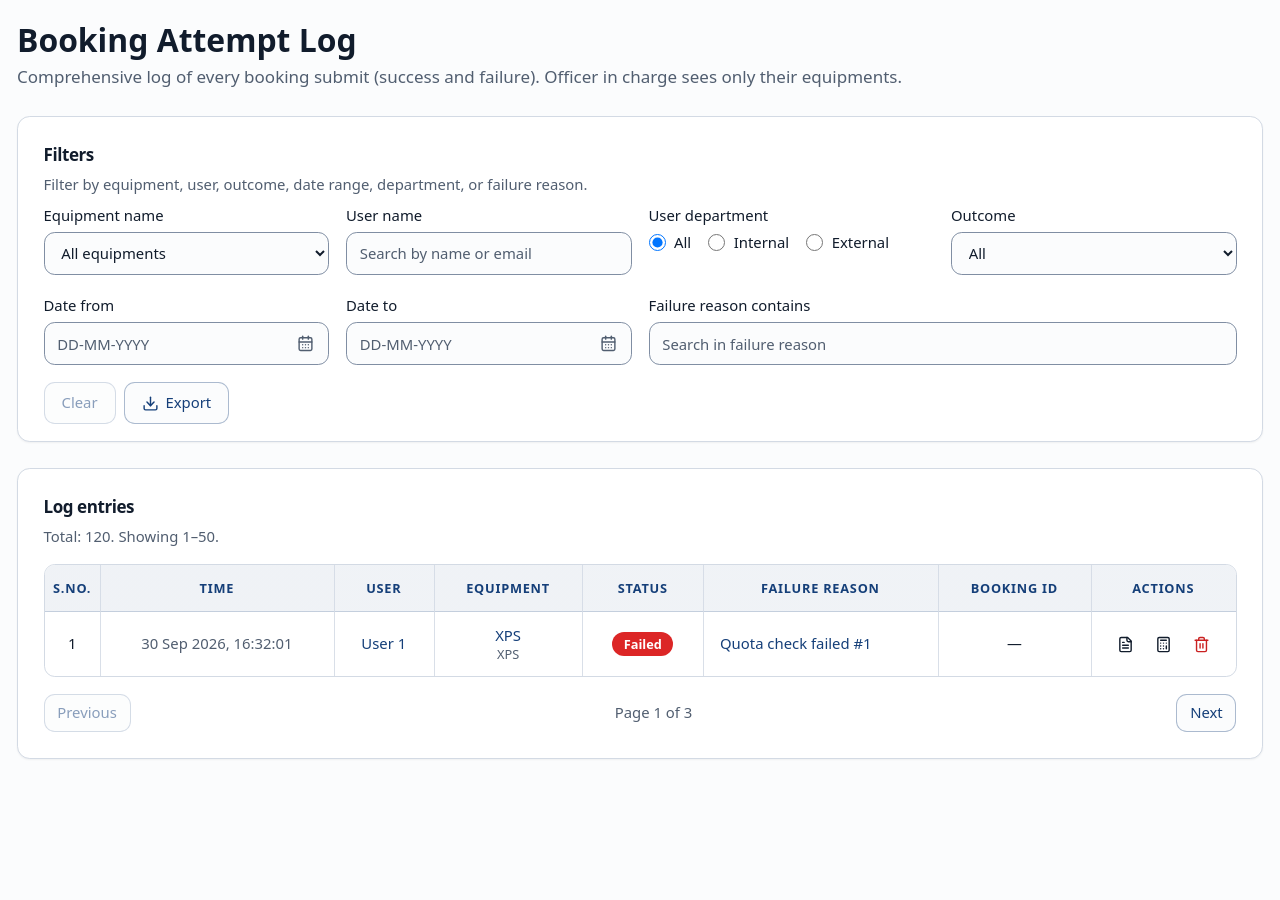
Test case: Booking Attempt Log live filters › keeps rows on screen while refetching and never shows an older response over a newer one
expect the button "Quota check failed #1" is shown: met, box x1=720 y1=633 x2=921 y2=655
Select "Success" in the dropdown named "Outcome": x=1094, y=253 x1=951 y1=232 x2=1236 y2=275
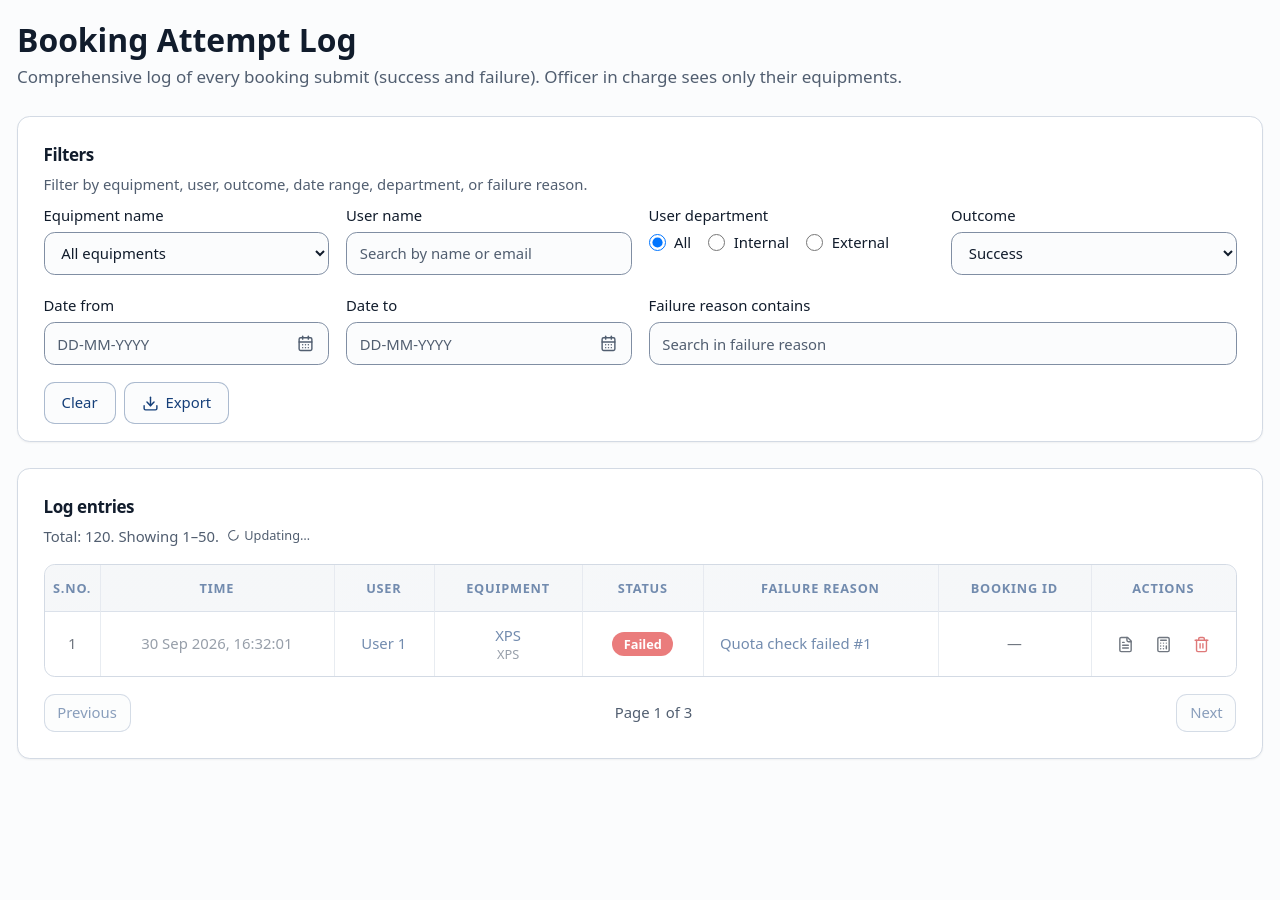
expect the button "Quota check failed #1" is shown: met, box x1=720 y1=633 x2=921 y2=655
expect the text "Updating…" is shown: met, box x1=227 y1=527 x2=310 y2=544
Select "Failed" in the dropdown named "Outcome": x=1094, y=253 x1=951 y1=232 x2=1236 y2=275
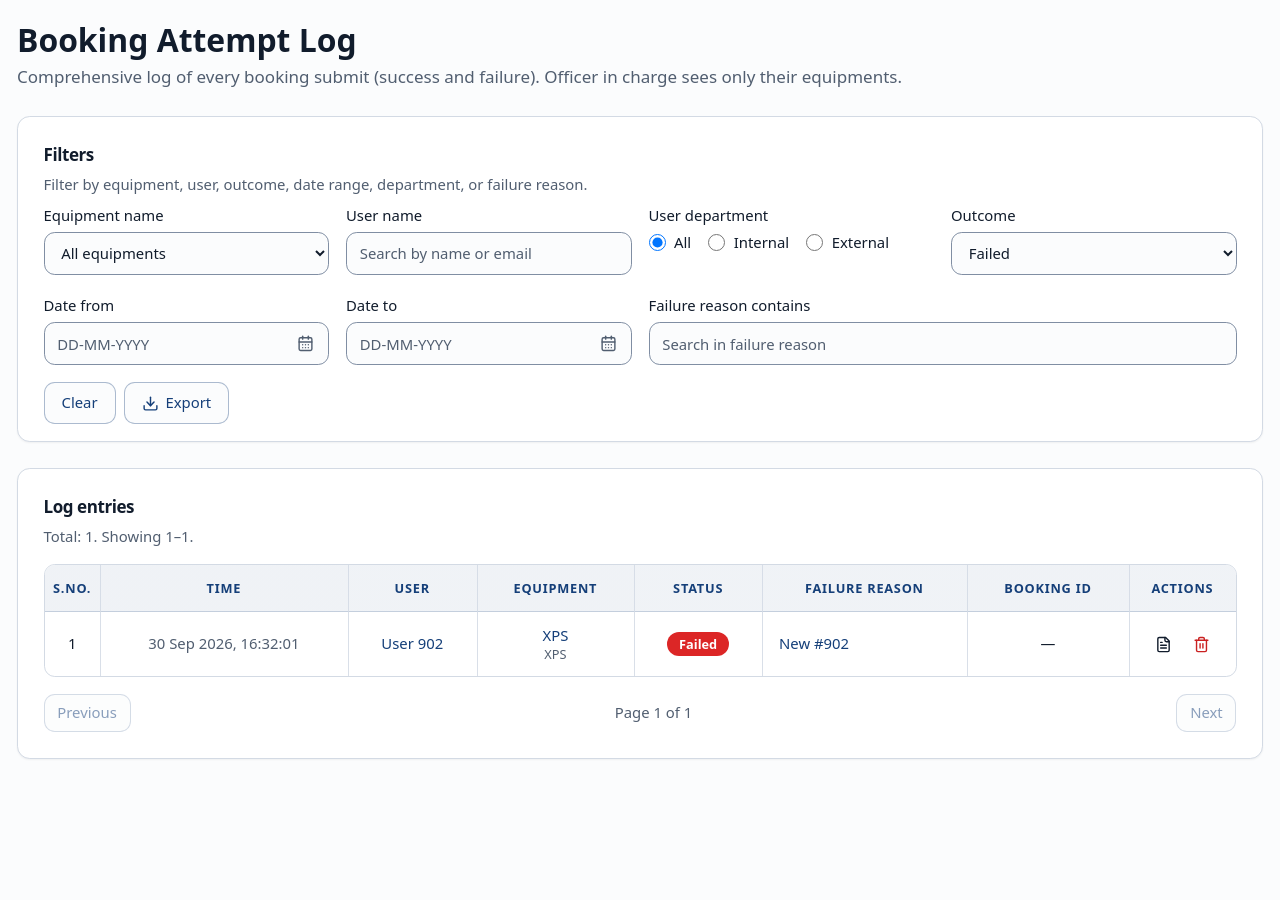
expect the button "New #902" is shown: met, box x1=779 y1=633 x2=950 y2=655
